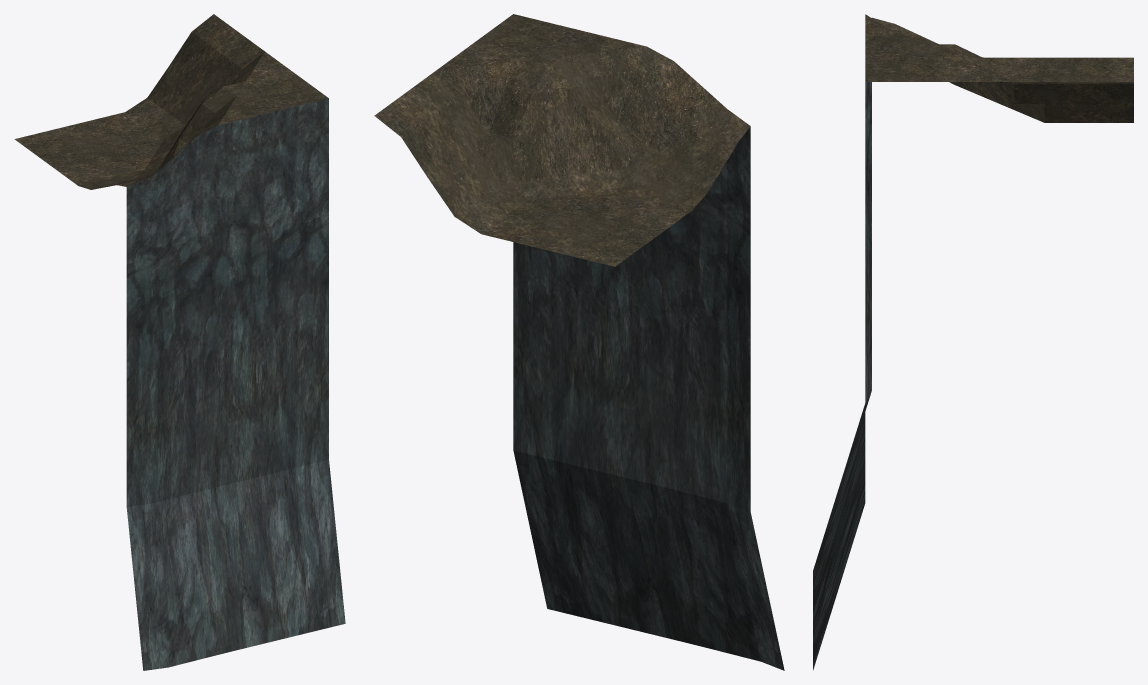
File: terrain_base01.fbx
3 renders of one model, left to right at view 1: azimuth 30°, elevation 25°; view 2: azimuth 150°, elevation 25°; view 3: azimuth 270°, elevation 25°, orthographic. The views are drawn at different scales.
Visible parts, largest first — view 1: obj1.054; view 2: obj1.054; view 3: obj1.054.
Boxes of the visible parts, box(x1,y1,x2,y2) form: obj1.054: box(14, 14, 345, 670); obj1.054: box(374, 14, 784, 670); obj1.054: box(813, 14, 1133, 670).
Size of the model in its own units: 23.15 by 54.78 by 26.86.
